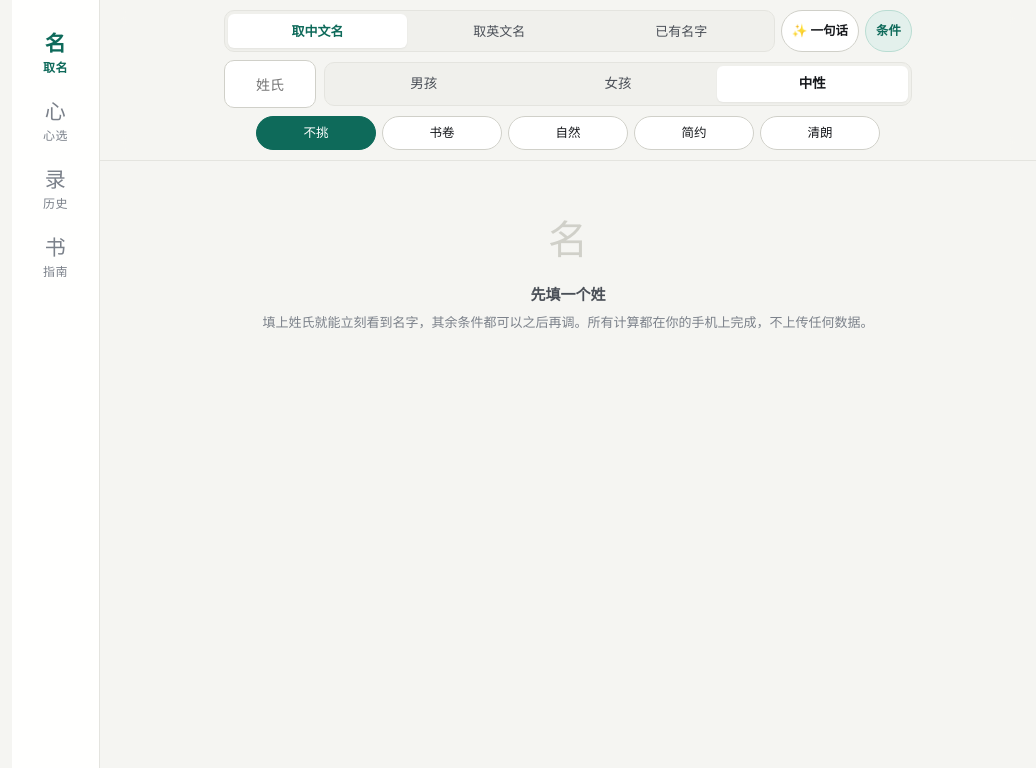
it: 主流程 › 指南页说清楚这个工具做不到什么
The image size is (1036, 768).
Click the button "书 指南" at (56, 260), box left=12, top=226, right=99, bottom=294
(page scrolled)
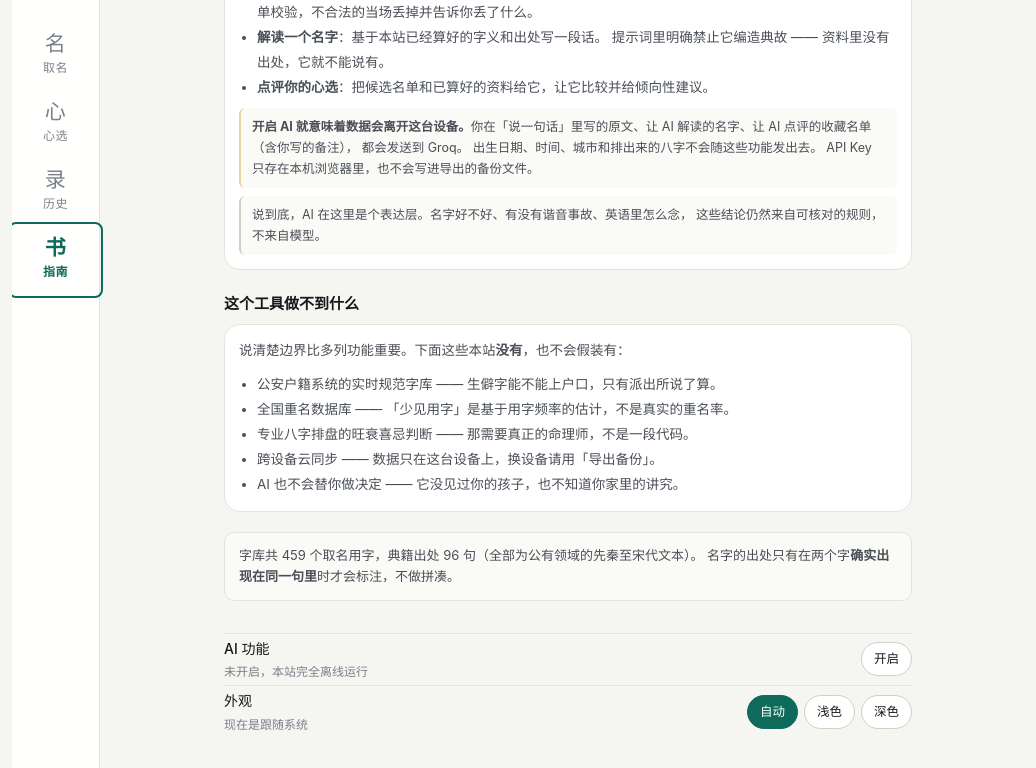
Check: the heading "这个工具做不到什么" is shown, box left=224, top=294, right=359, bottom=314
Check: the list item "公安户籍系统的实时规范字库 —— 生僻字能不能上户口，只有派出所说了算。" is shown, box left=257, top=376, right=724, bottom=392
